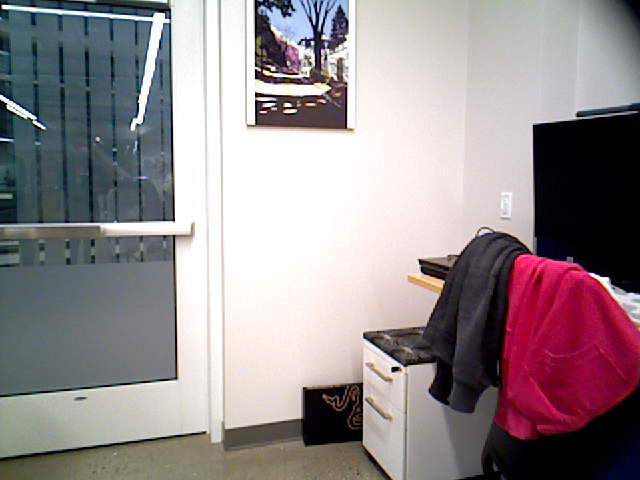painting3: (243, 1, 355, 127)
